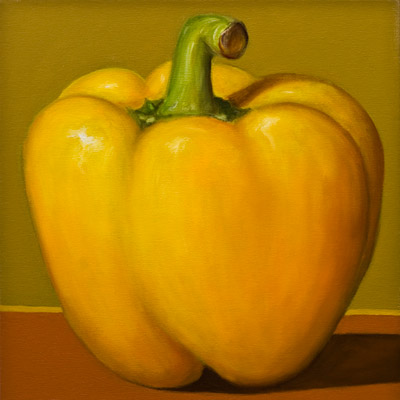capsicum: (19, 15, 386, 391)
